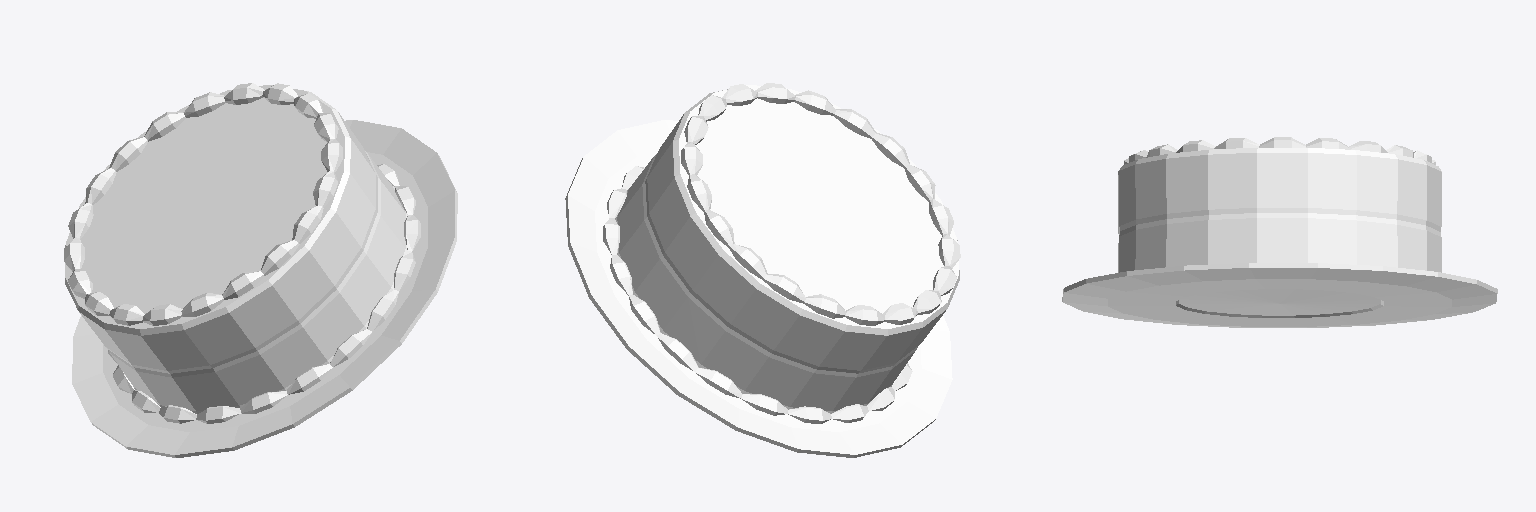
Rendered from choclatecake.obj.
3 views of the same model, side by side, from view 1: azimuth 30°, elevation 25°; view 2: azimuth 150°, elevation 25°; view 3: azimuth 270°, elevation 25° (orthographic).
Visible parts, largest first — view 1: Handle1; view 2: Handle1; view 3: Handle1.
Boxes of the visible parts, x1,y1,x2,y2 form: Handle1: [64, 83, 457, 457]; Handle1: [565, 83, 960, 457]; Handle1: [1062, 137, 1497, 327].
Bounding box in the file's own units: 1.93 × 1.58 × 2.16.